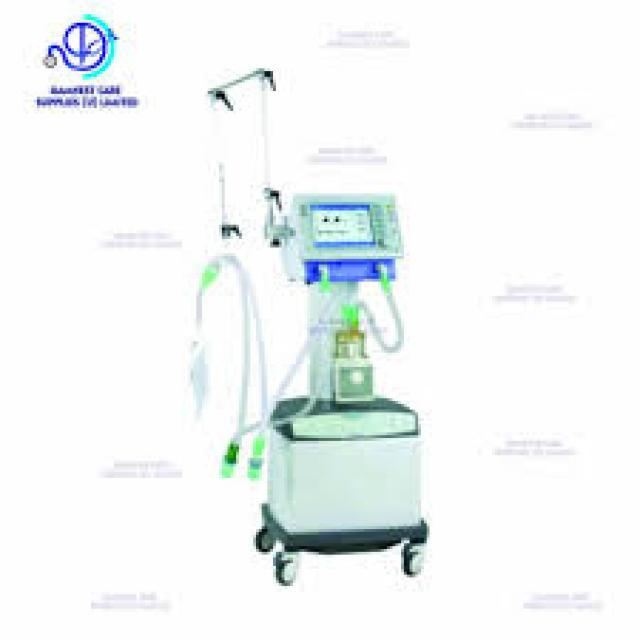ventilator: (204, 42, 434, 604)
